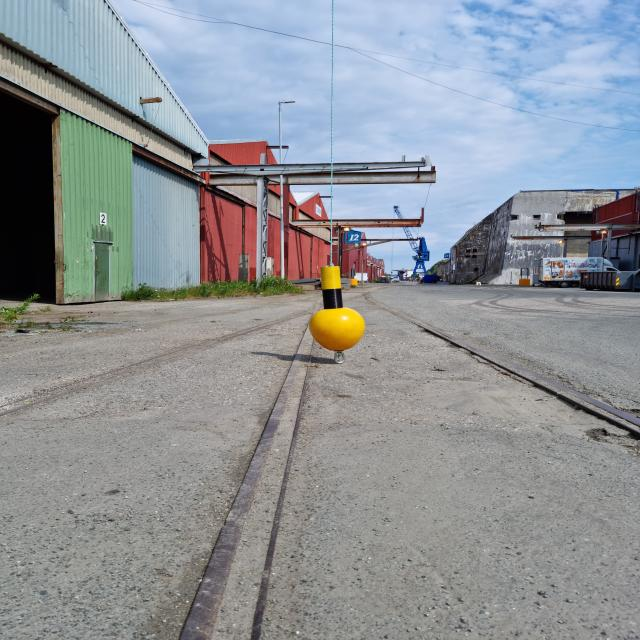west: (310, 267, 366, 350)
